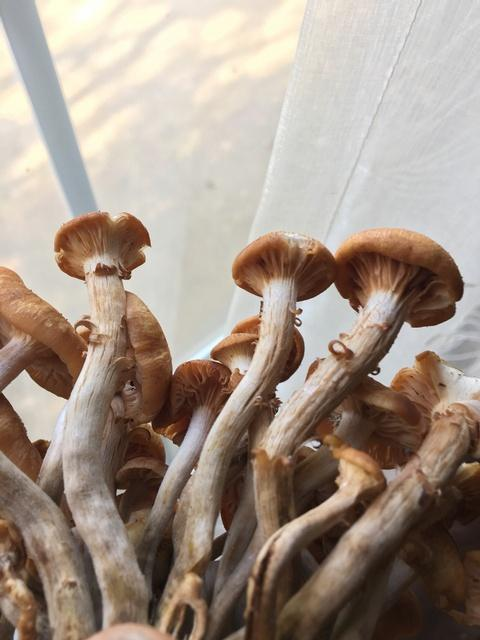edible_mushroom: (1, 212, 478, 637)
